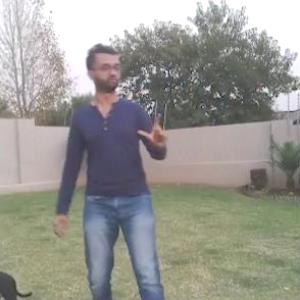land_hand: (133, 103, 174, 155)
